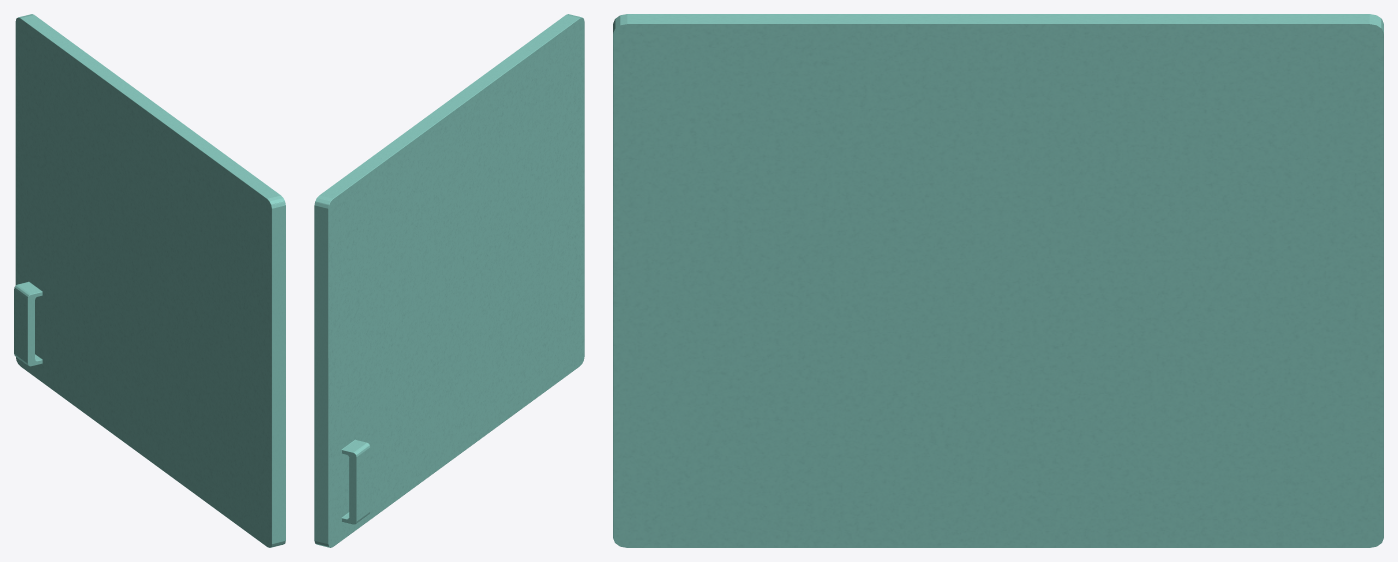
Rendered from SmallHangingCabinets.003.fbx.
3 renders of one model, left to right at view 1: azimuth 30°, elevation 25°; view 2: azimuth 150°, elevation 25°; view 3: azimuth 270°, elevation 25°, orthographic. The views are drawn at different scales.
Parts seen in each view (by area): view 1: SmallHangingCabinets.003_Baked; view 2: SmallHangingCabinets.003_Baked; view 3: SmallHangingCabinets.003_Baked.
Boxes of the visible parts, <box> form: SmallHangingCabinets.003_Baked: <box>14,14,285,547</box>; SmallHangingCabinets.003_Baked: <box>314,14,584,547</box>; SmallHangingCabinets.003_Baked: <box>613,14,1383,547</box>.
Bounding box in the file's own units: 5.81 × 66.66 × 88.89.
1 material, 1 textured.
